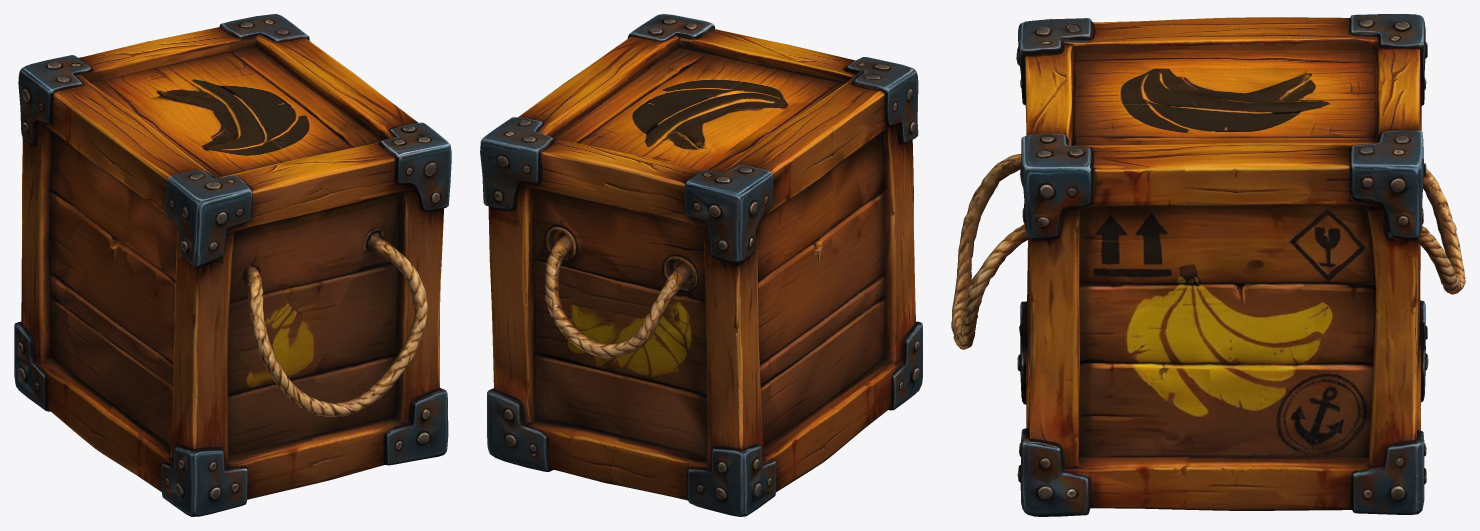
Rendered from export-crate.glb.
The picture shows the model from 3 angles, left to right: view 1: azimuth 30°, elevation 25°; view 2: azimuth 150°, elevation 25°; view 3: azimuth 270°, elevation 25°; orthographic projection. The views are drawn at different scales.
Visible parts, largest first — view 1: tripo_node_9e7c31c9-1564-4843-b9ac-acd3d148b3d1; view 2: tripo_node_9e7c31c9-1564-4843-b9ac-acd3d148b3d1; view 3: tripo_node_9e7c31c9-1564-4843-b9ac-acd3d148b3d1.
Part boxes in pixels (bbox=[...]): tripo_node_9e7c31c9-1564-4843-b9ac-acd3d148b3d1: bbox=[14, 14, 451, 516]; tripo_node_9e7c31c9-1564-4843-b9ac-acd3d148b3d1: bbox=[480, 14, 922, 516]; tripo_node_9e7c31c9-1564-4843-b9ac-acd3d148b3d1: bbox=[951, 14, 1465, 516].
Size of the model in its own units: 0.6874 by 0.7968 by 0.9993.
Materials: 1 (1 with a texture image).
